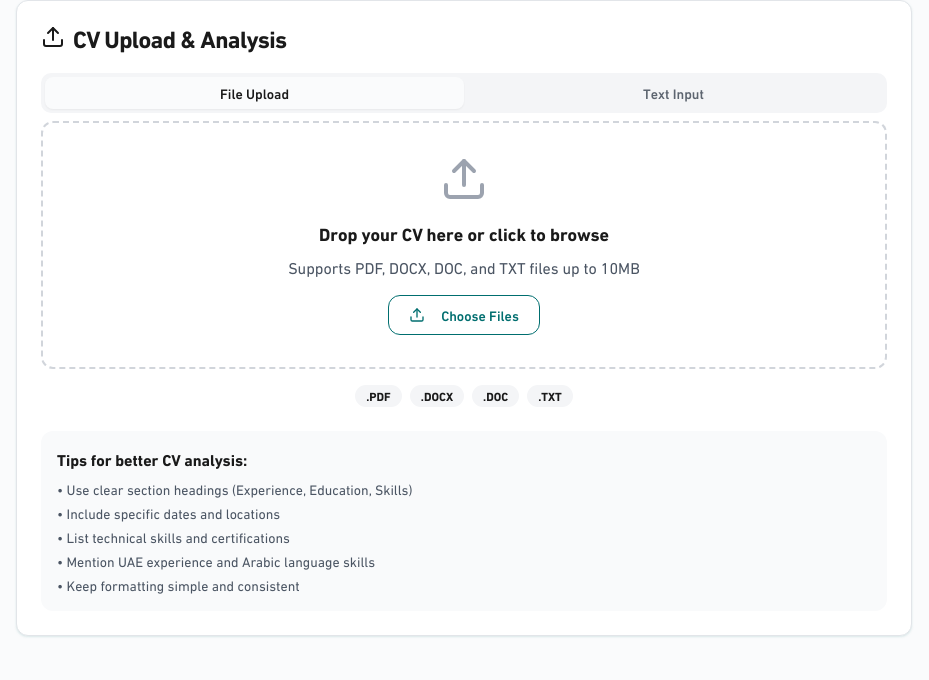
CVUploadComponent › handles text input upload
Click the tab "Text Input": (674, 93) [464,77,883,109]
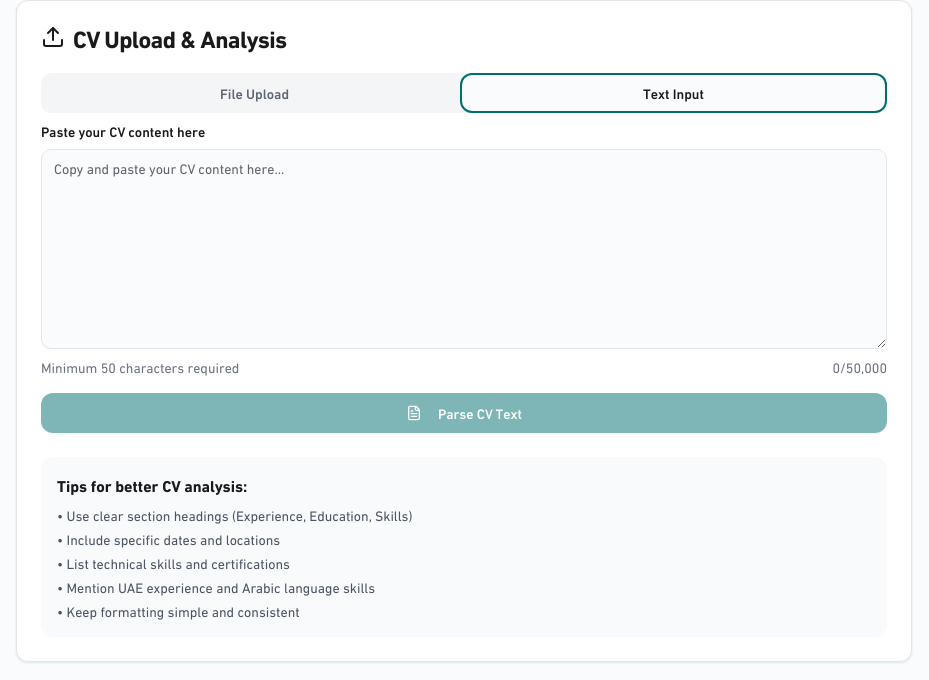
In the text box with placeholder "Copy and paste your CV content here...": (464, 249) [41,149,887,349], type "This is a test CV with enough content to be valid."
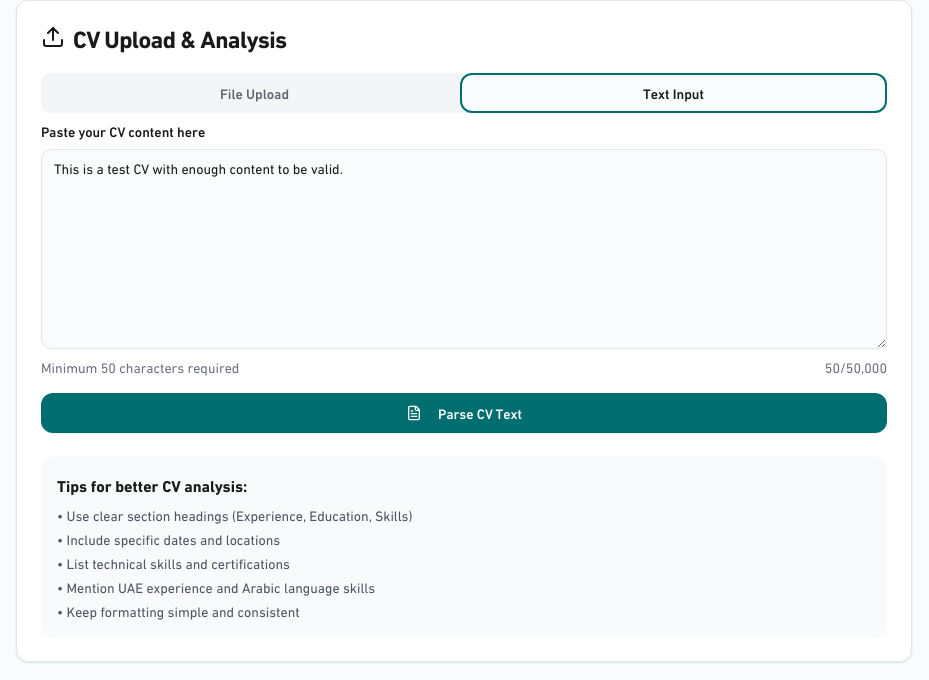
Click the button "Parse CV Text": (464, 413) [41,393,887,433]
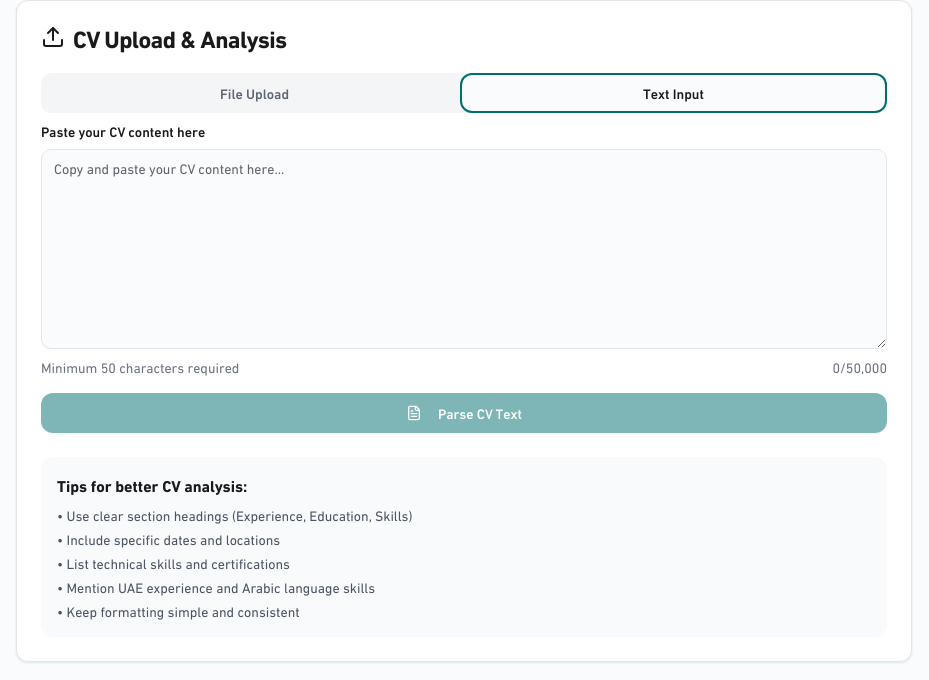
Now the text box with placeholder "Copy and paste your CV content here..." is empty, box [41,149,887,349]
